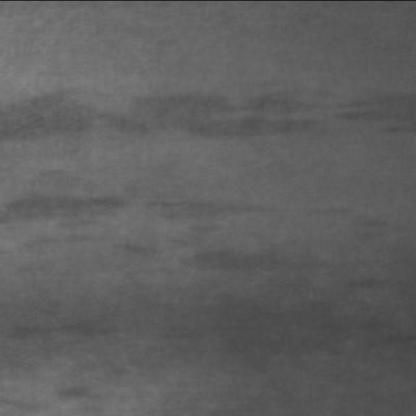inclusion: (0, 70, 412, 146), (0, 180, 287, 245), (0, 291, 137, 352), (179, 235, 341, 281), (328, 87, 412, 138)
